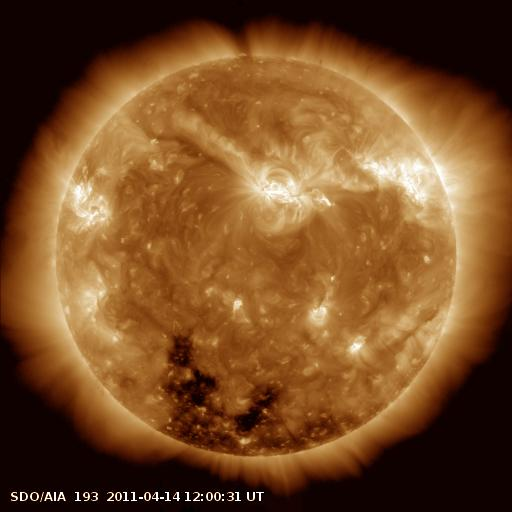coronal_hole: (155, 336, 346, 455)
